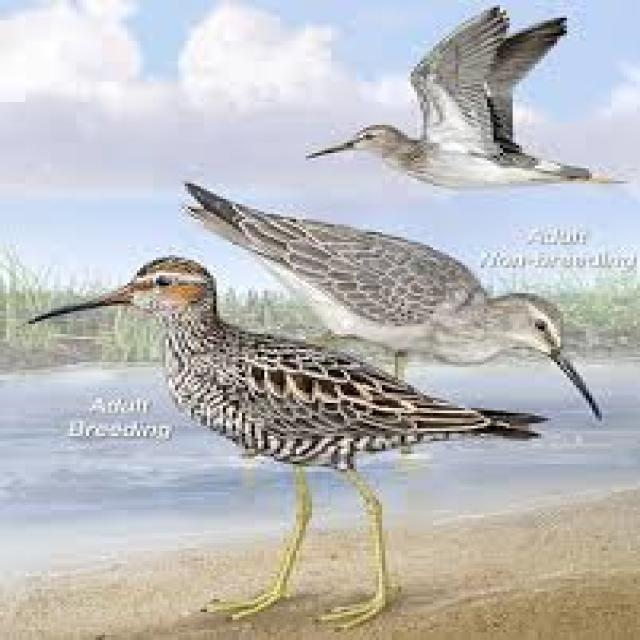Sandpiper: (26, 246, 514, 619), (179, 184, 599, 418), (300, 9, 602, 187)
